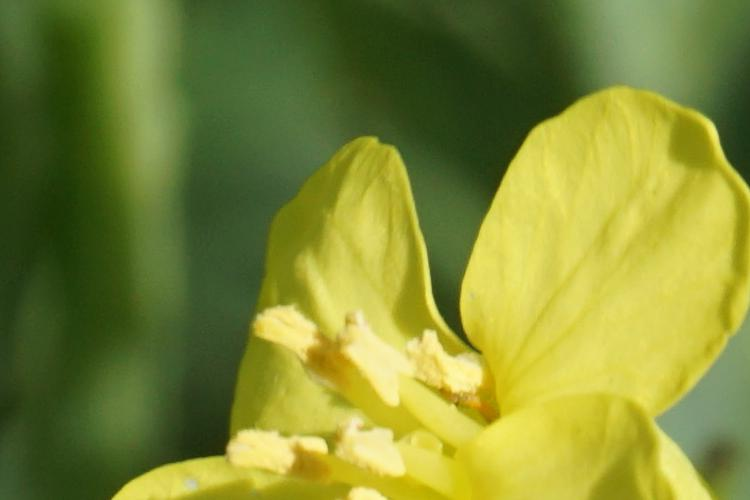yellow: (141, 98, 750, 498)
